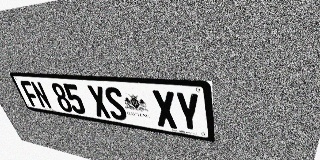5: (62, 83, 87, 115)
8: (49, 82, 74, 113)
F: (19, 80, 42, 108)
N: (29, 81, 53, 109)
S: (102, 86, 129, 121)
X: (151, 90, 179, 129), (86, 85, 112, 119)
Y: (174, 92, 202, 133)
